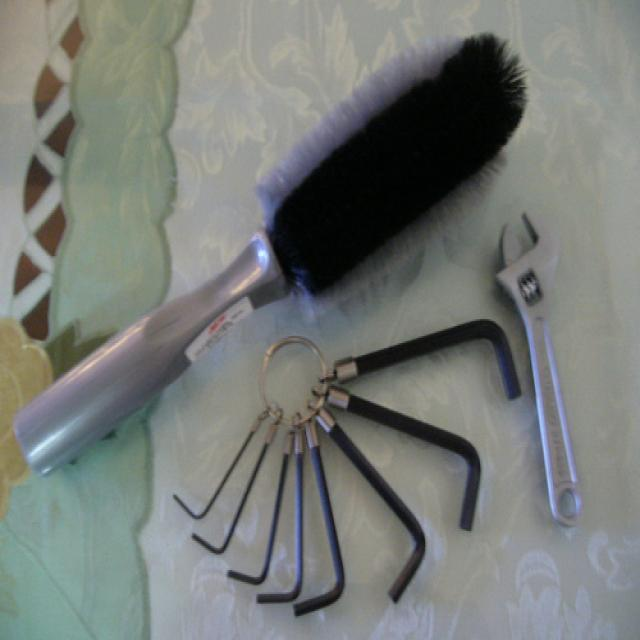wrench: (496, 171, 616, 527)
